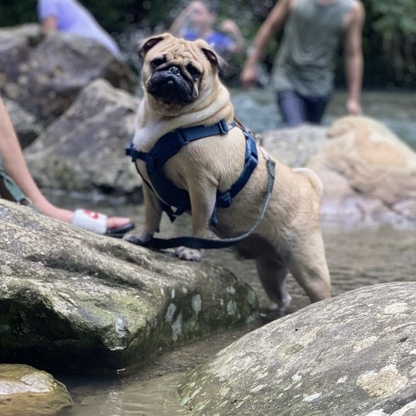Pug: (121, 29, 340, 313)
